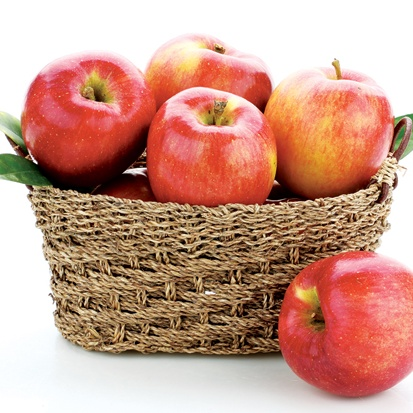apple: (278, 250, 413, 396), (17, 54, 152, 181), (265, 66, 394, 196), (147, 89, 279, 208), (142, 34, 271, 127)
